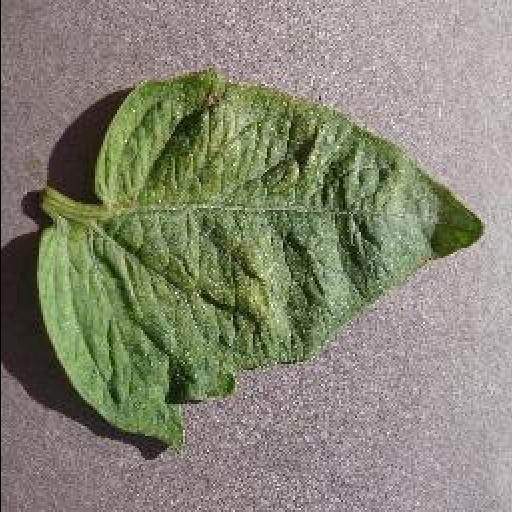disease_tomato: (33, 66, 483, 450)
